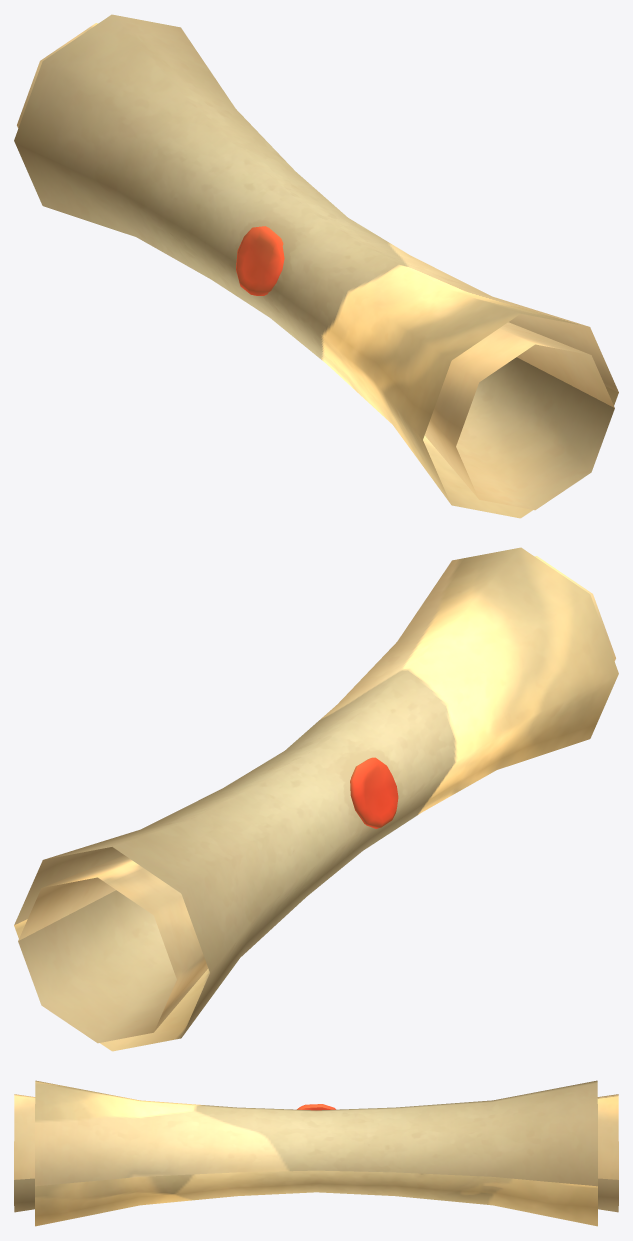
Rendered from SM_Stylized_Parchment_Var01.fbx.
The picture shows the model from 3 angles, top to bottom: view 1: azimuth 30°, elevation 25°; view 2: azimuth 150°, elevation 25°; view 3: azimuth 270°, elevation 25°; orthographic projection. The views are drawn at different scales.
Parts seen in each view (by area): view 1: SM_Stylized_Parchment_Var01_LOD0; view 2: SM_Stylized_Parchment_Var01_LOD0; view 3: SM_Stylized_Parchment_Var01_LOD0.
Part boxes in pixels (bbox=[...]): SM_Stylized_Parchment_Var01_LOD0: bbox=[14, 14, 618, 518]; SM_Stylized_Parchment_Var01_LOD0: bbox=[14, 547, 618, 1051]; SM_Stylized_Parchment_Var01_LOD0: bbox=[14, 1080, 618, 1226].
Bounding box in the file's own units: 13.62 × 53.01 × 13.61.
